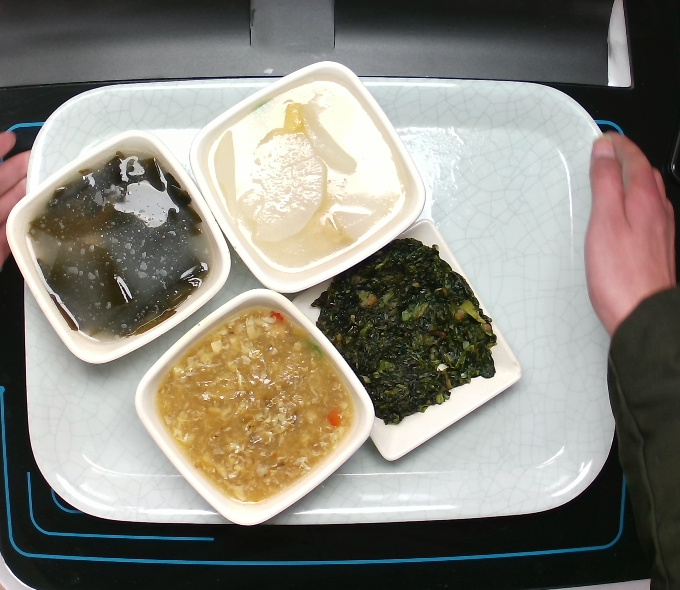wcq-HaiDaiPaiGuTang: (26, 149, 210, 340)
wcq-LuoBoYouPaoTang: (203, 73, 407, 272)
wcq-QinCaiBing: (316, 235, 501, 427)
wcq-SuanLaGeng: (156, 306, 356, 505)
